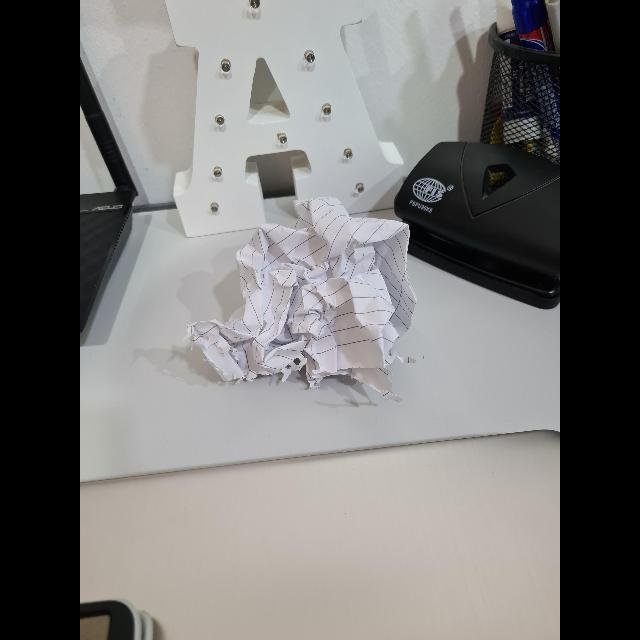scrap_paper: (206, 194, 412, 390)
